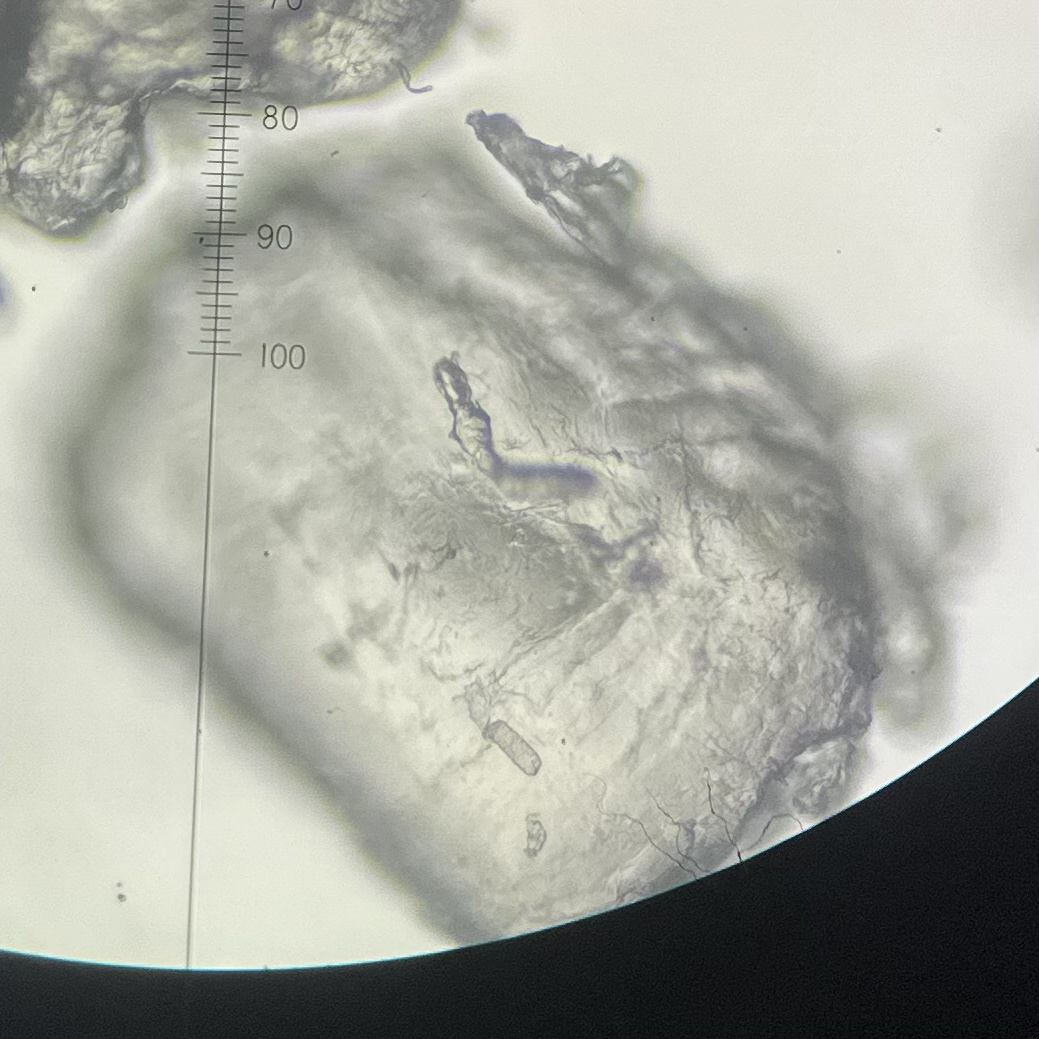microplastic: (63, 100, 969, 951), (1, 1, 472, 240)
